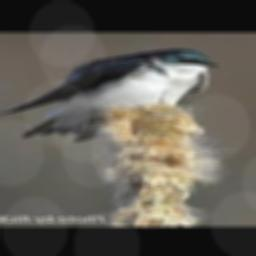Swallow: (0, 48, 224, 141)
